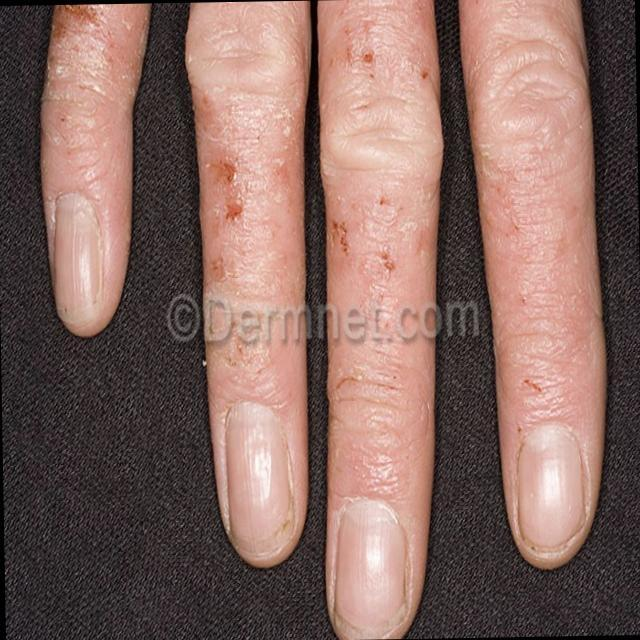Eczema: (331, 10, 443, 288), (189, 64, 276, 284), (38, 0, 118, 149)
